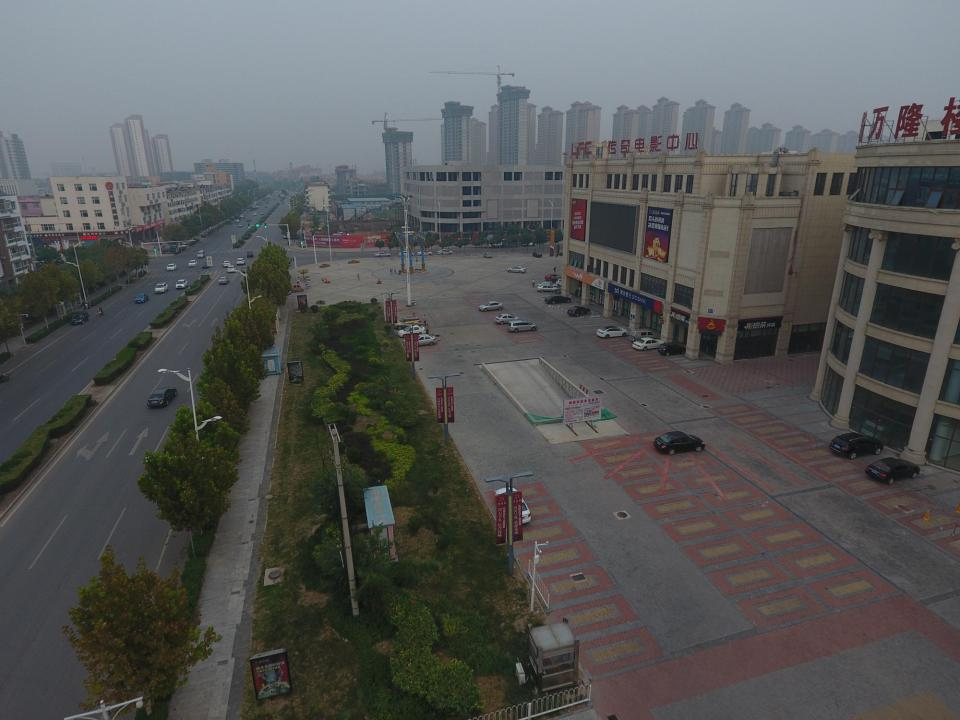car: (865, 456, 920, 485), (829, 432, 884, 460), (495, 487, 531, 526), (653, 431, 706, 455), (147, 387, 177, 407), (632, 337, 665, 351), (596, 326, 628, 339), (658, 342, 686, 356), (393, 316, 421, 330), (507, 320, 537, 333), (404, 334, 436, 346), (397, 325, 426, 338), (494, 313, 520, 325), (567, 305, 590, 317), (70, 311, 89, 325), (478, 301, 504, 311), (545, 295, 572, 304), (544, 273, 566, 282), (551, 275, 571, 284), (555, 278, 574, 287), (537, 284, 558, 292), (536, 282, 559, 289), (134, 294, 149, 304), (154, 283, 169, 293), (507, 266, 526, 273), (175, 279, 188, 289), (437, 249, 454, 255), (374, 252, 391, 258), (417, 250, 433, 256), (218, 276, 230, 284), (398, 251, 415, 256), (173, 243, 187, 249), (174, 239, 188, 245), (522, 241, 536, 246), (166, 264, 177, 270), (188, 260, 197, 267), (222, 260, 231, 267), (236, 258, 245, 265), (201, 262, 211, 268), (532, 252, 542, 258), (227, 266, 237, 272), (241, 266, 248, 273), (246, 251, 254, 257), (483, 253, 492, 258), (294, 234, 300, 239), (283, 233, 288, 239), (238, 214, 244, 218), (238, 223, 243, 227), (246, 218, 251, 222), (234, 219, 239, 223), (253, 212, 257, 216), (228, 220, 232, 224), (286, 202, 292, 204), (266, 195, 272, 197), (264, 204, 268, 207), (240, 213, 244, 216), (243, 211, 247, 214), (260, 212, 264, 214), (282, 202, 286, 204), (266, 201, 269, 203), (261, 201, 264, 203), (274, 198, 276, 200)
truck: (159, 245, 177, 254), (488, 239, 506, 248)
van: (629, 328, 657, 343), (196, 251, 205, 258), (298, 241, 307, 247), (245, 209, 250, 212)
